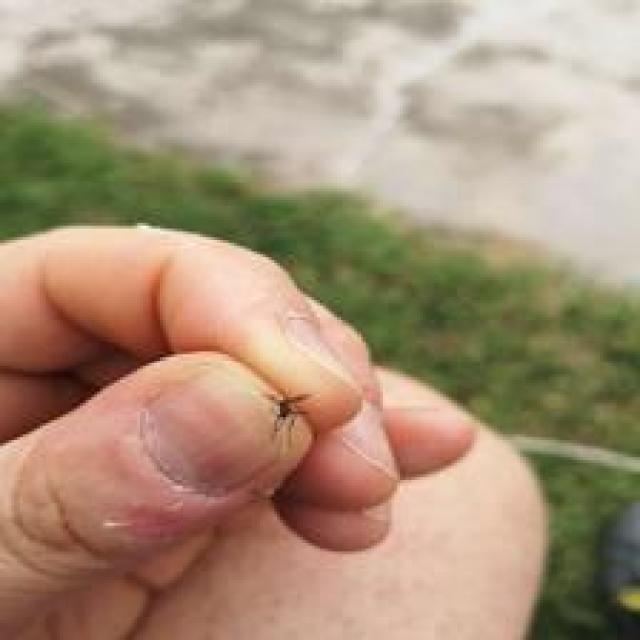Aedes albopictus: (267, 392, 313, 437)
